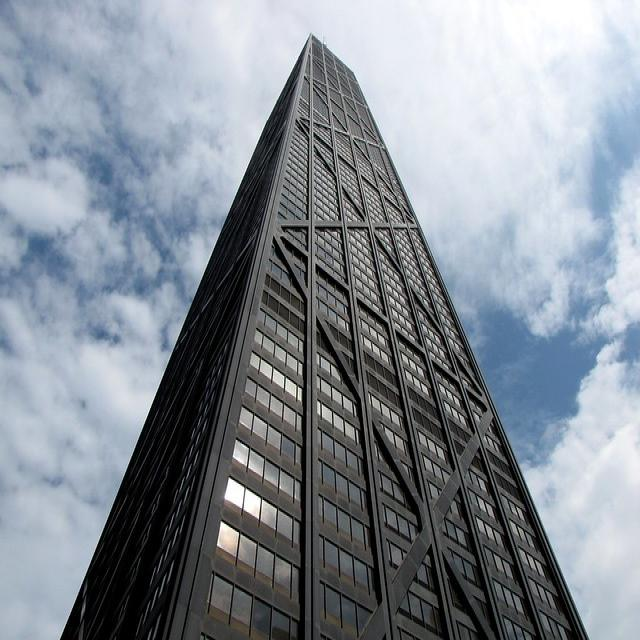Normal_building: (54, 28, 595, 640)
